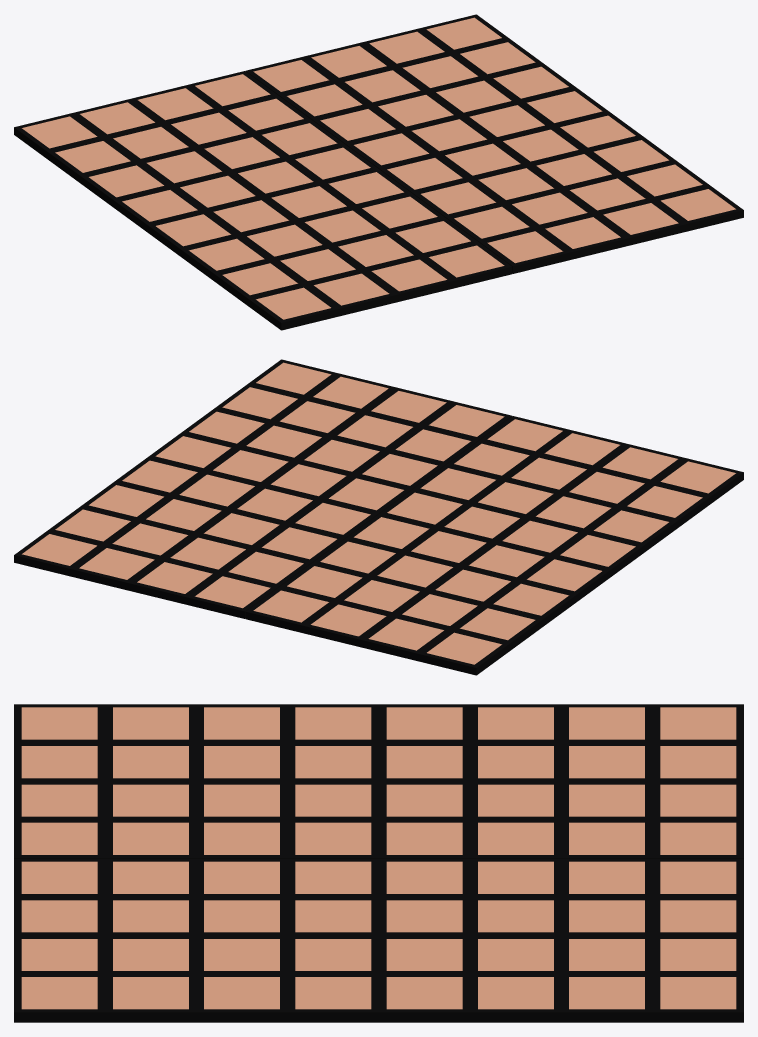
File: board.fbx
3 views of the same model, one above another, from view 1: azimuth 30°, elevation 25°; view 2: azimuth 150°, elevation 25°; view 3: azimuth 270°, elevation 25° (orthographic). The views are drawn at different scales.
Parts seen in each view (by area): view 1: Cube.051; view 2: Cube.051; view 3: Cube.051.
Part boxes in pixels (x1=…): Cube.051: x1=14, y1=14, x2=743, y2=330; Cube.051: x1=14, y1=359, x2=743, y2=675; Cube.051: x1=14, y1=704, x2=743, y2=1022.
Bounding box in the file's own units: 1598 × 25 × 1600.
